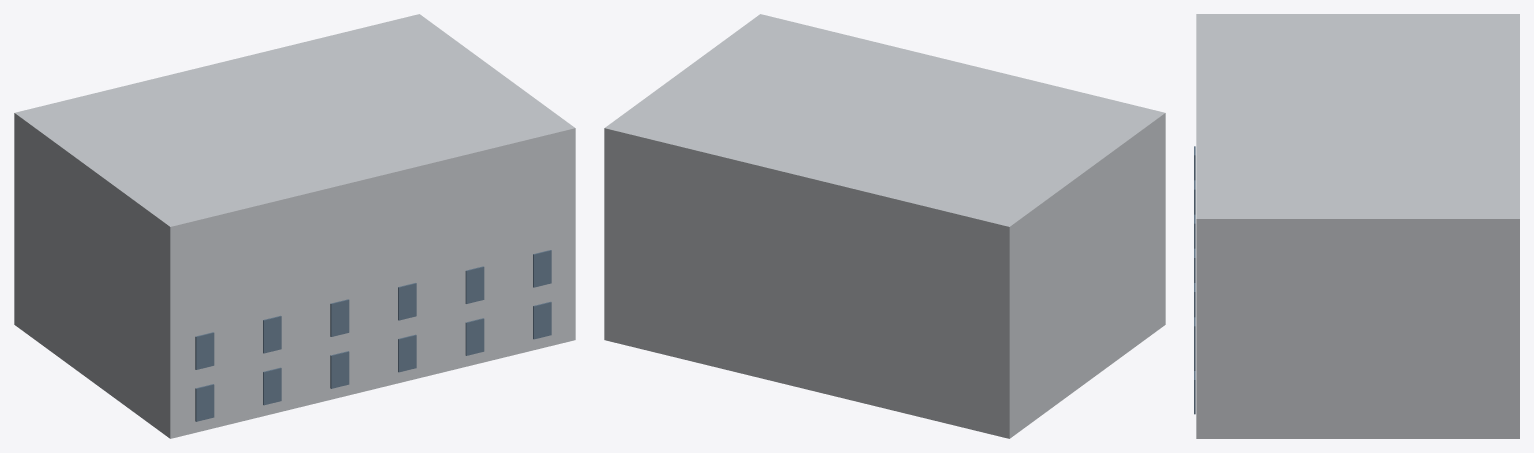
File: stone_warehouse.glb
3 renders of one model, left to right at view 1: azimuth 30°, elevation 25°; view 2: azimuth 150°, elevation 25°; view 3: azimuth 270°, elevation 25°, orthographic. The views are drawn at different scales.
Visible parts, largest first — view 1: body, win0_2, win0_4, win1_4, win0_0, win1_2, win1_0, win1_1, win0_5, win0_1, win1_3, win0_3 (+1 smaller); view 2: body; view 3: body.
Boxes of the visible parts, box(x1,y1,x2,y2) form: body: box(14, 14, 575, 438); win0_2: box(330, 351, 349, 388); win0_4: box(465, 318, 484, 355); win1_4: box(465, 266, 484, 303); win0_0: box(195, 384, 214, 421); win1_2: box(330, 299, 349, 336); win1_0: box(195, 332, 214, 369); win1_1: box(263, 315, 281, 353); win0_5: box(533, 301, 551, 339); win0_1: box(263, 367, 281, 405); win1_3: box(398, 283, 416, 320); win0_3: box(398, 334, 416, 372); body: box(604, 14, 1165, 438); body: box(1196, 14, 1519, 438).
Bounding box in the file's own units: 18 × 9 × 12.08.
